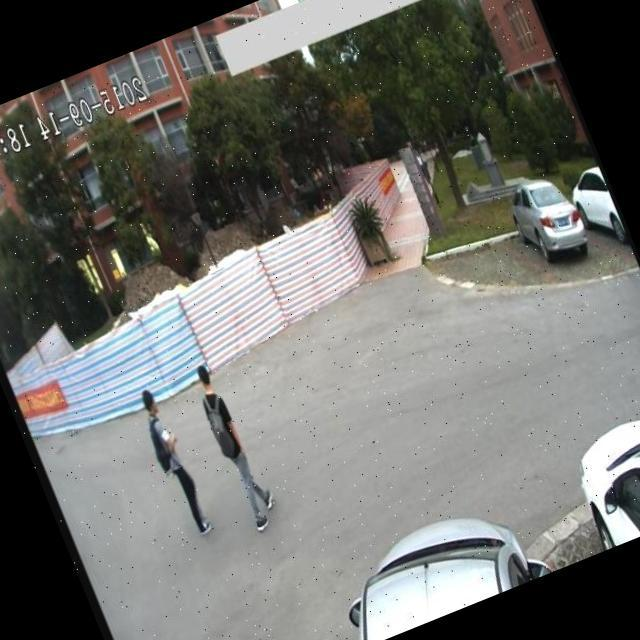person: (186, 354, 288, 537), (128, 378, 220, 546)
